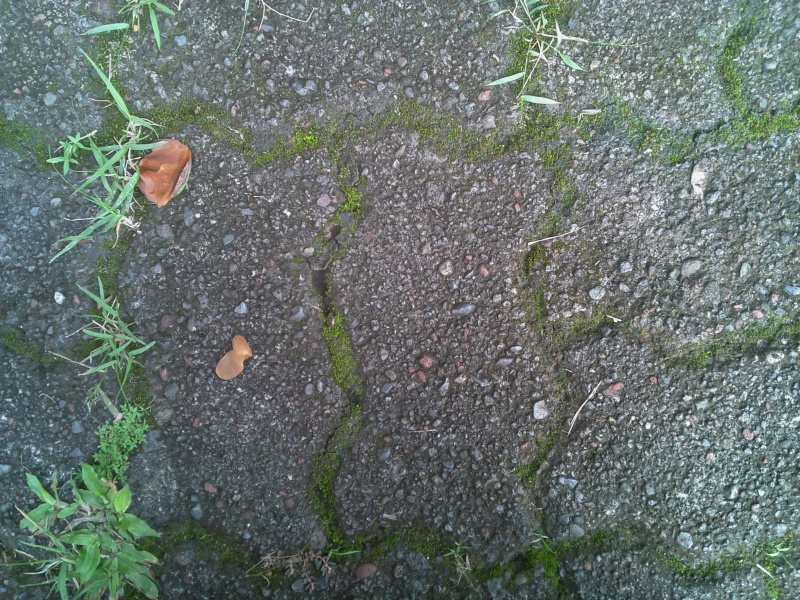Weed: (15, 469, 169, 600), (78, 90, 156, 246), (493, 1, 586, 118), (66, 286, 155, 379), (88, 406, 167, 479), (101, 1, 184, 50), (261, 542, 356, 584), (43, 128, 86, 175), (439, 535, 482, 582)
